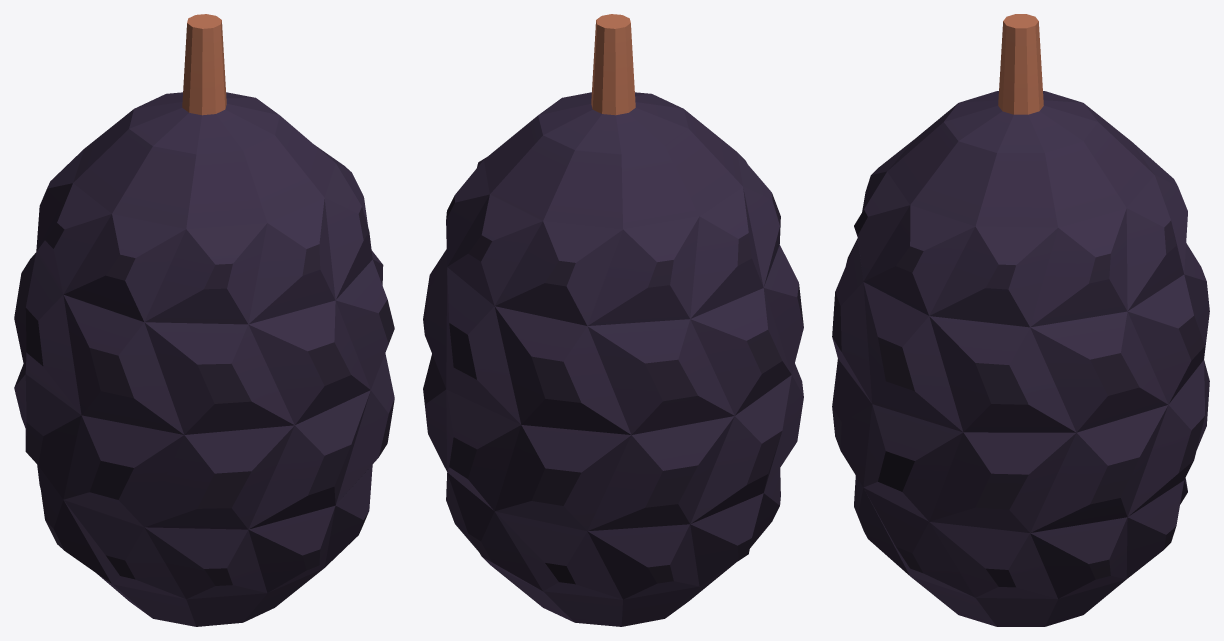
Rendered from Black Mulberry.fbx.
The picture shows the model from 3 angles, left to right: view 1: azimuth 30°, elevation 25°; view 2: azimuth 150°, elevation 25°; view 3: azimuth 270°, elevation 25°; orthographic projection.
Parts seen in each view (by area): view 1: Black Mulberry; view 2: Black Mulberry; view 3: Black Mulberry.
Boxes of the visible parts, <box> form: Black Mulberry: <box>14,14,394,626</box>; Black Mulberry: <box>423,14,803,626</box>; Black Mulberry: <box>832,14,1209,626</box>.
Bounding box in the file's own units: 6.73 × 11.53 × 6.65.
